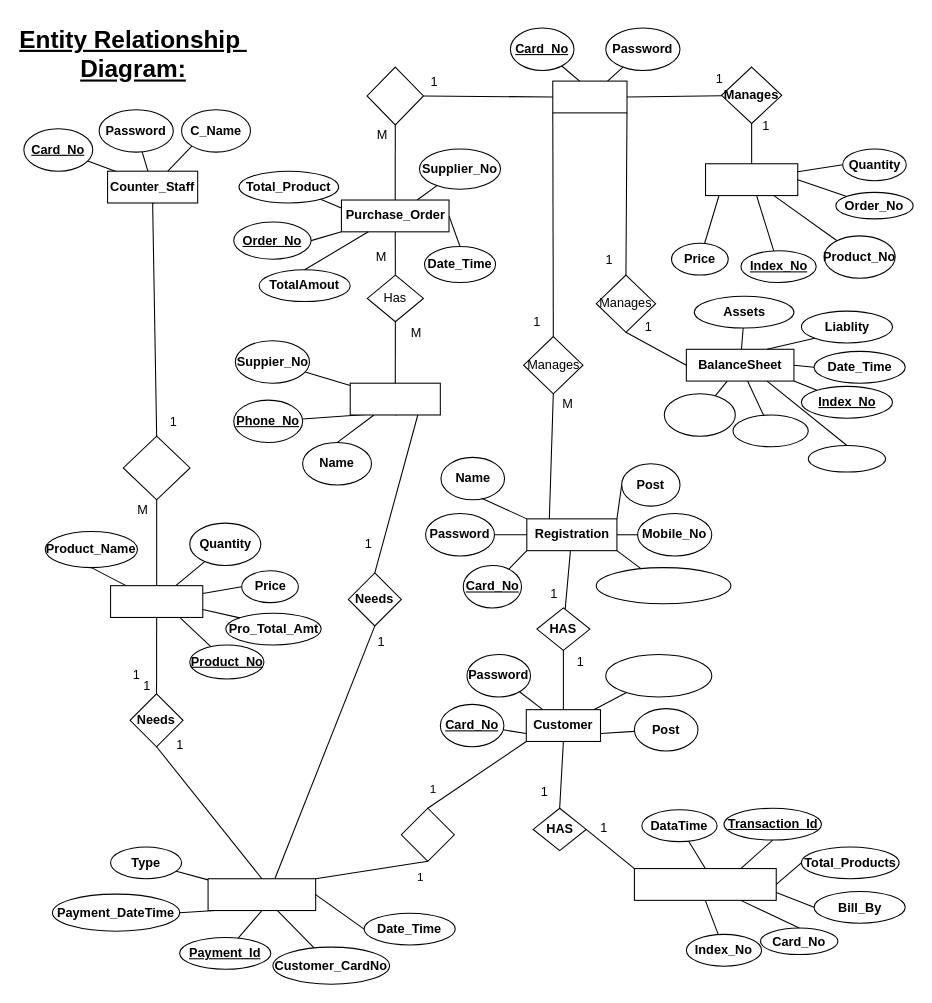
Image size: 932x1003. Some labels were removed from this diagram. The shapes that lost their labels are listed below. From the top down, each one's box as (x1, y1, x2, y2) in pixels, then its label:
(366, 66, 423, 125): Gives
(552, 80, 627, 113): Admin
(704, 163, 798, 196): Inventory
(349, 382, 440, 415): Supplier
(663, 393, 735, 436): Expence
(732, 414, 808, 447): Loss
(122, 435, 190, 500): Creates
(807, 444, 886, 472): Profit
(109, 585, 203, 617): Customer_Bill
(595, 567, 731, 604): Date_Of_Registration
(605, 653, 712, 697): Customer_Name
(400, 807, 454, 861): Makes
(207, 878, 316, 911): Payment
(633, 868, 776, 900): Customer_Bill_History
